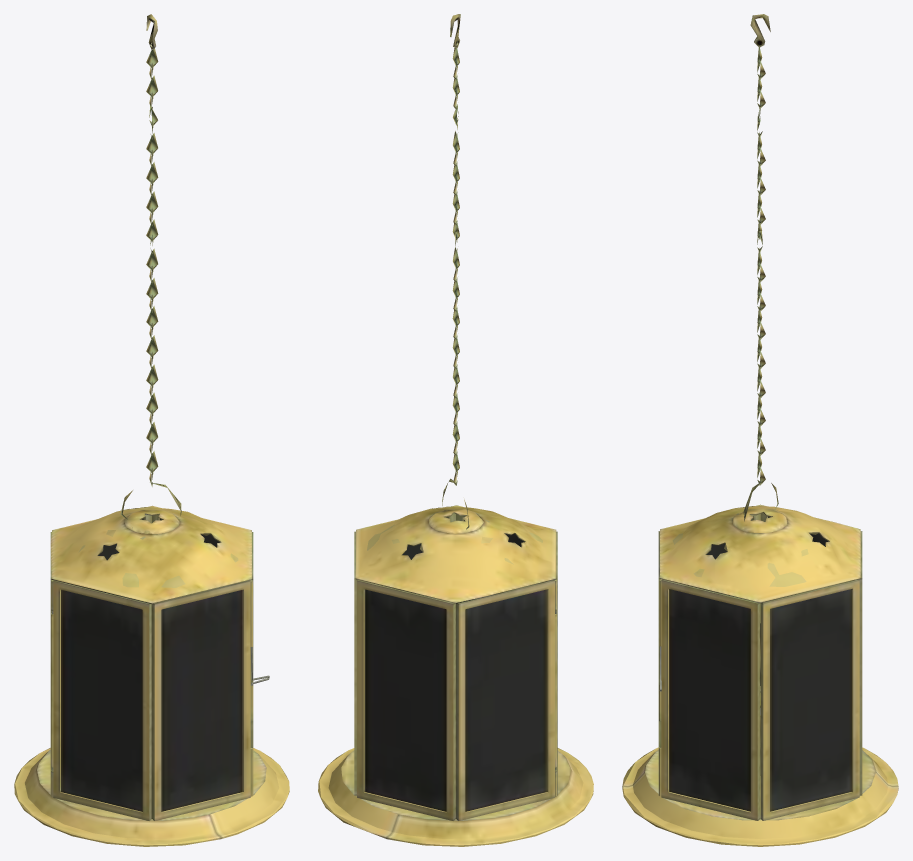
File: brass_diya_lantern.glb
3 renders of one model, left to right at view 1: azimuth 30°, elevation 25°; view 2: azimuth 150°, elevation 25°; view 3: azimuth 270°, elevation 25°, orthographic.
Visible parts, largest first — view 1: brass_diya_lantern, brass_diya_lantern_connection; view 2: brass_diya_lantern, brass_diya_lantern_connection; view 3: brass_diya_lantern, brass_diya_lantern_connection.
Part boxes in pixels (box(x1,y1,x2,y2)): brass_diya_lantern: box(14, 505, 289, 846); brass_diya_lantern_connection: box(120, 14, 181, 519); brass_diya_lantern: box(318, 505, 593, 846); brass_diya_lantern_connection: box(442, 14, 469, 529); brass_diya_lantern: box(622, 504, 898, 846); brass_diya_lantern_connection: box(743, 14, 778, 521).
Bounding box in the file's own units: 0.123 × 0.3806 × 0.123.
Materials: 3 (3 with a texture image).
